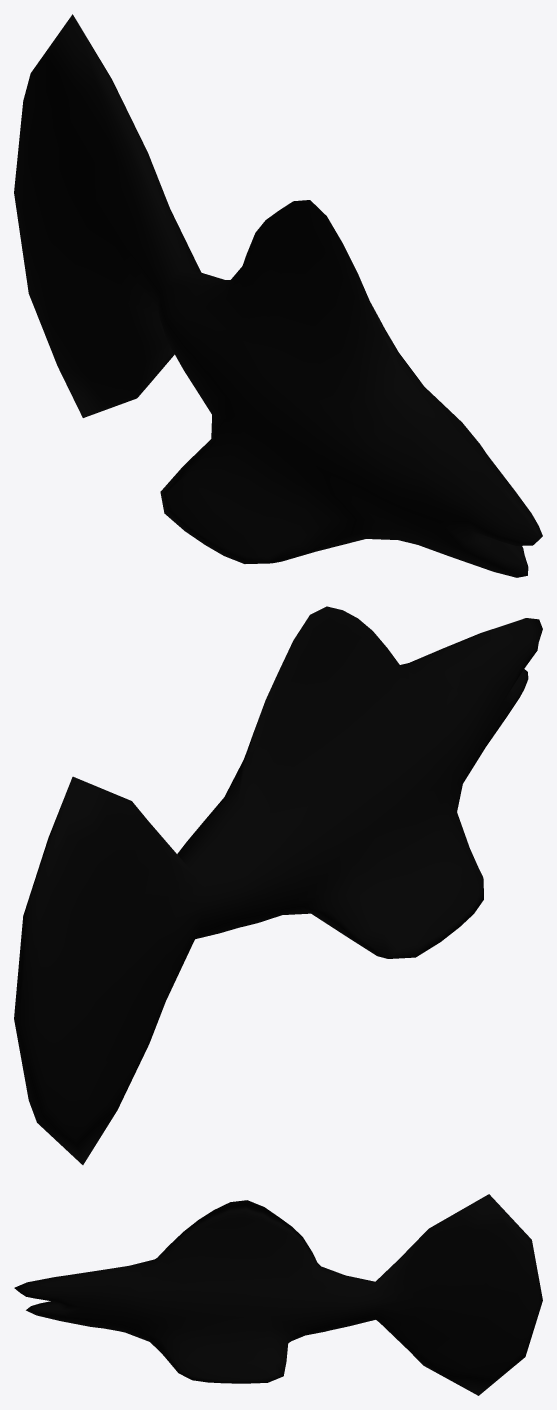
File: FishBody.obj
The picture shows the model from 3 angles, top to bottom: view 1: azimuth 30°, elevation 25°; view 2: azimuth 150°, elevation 25°; view 3: azimuth 270°, elevation 25°; orthographic projection. The views are drawn at different scales.
Visible parts, largest first — view 1: 立方体; view 2: 立方体; view 3: 立方体.
Boxes of the visible parts, <box> form: 立方体: <box>14,14,542,577</box>; 立方体: <box>14,606,542,1164</box>; 立方体: <box>14,1194,542,1395</box>.
Size of the model in its own units: 3.77 by 5.59 by 13.26.
Materials: 1 (1 with a texture image).
